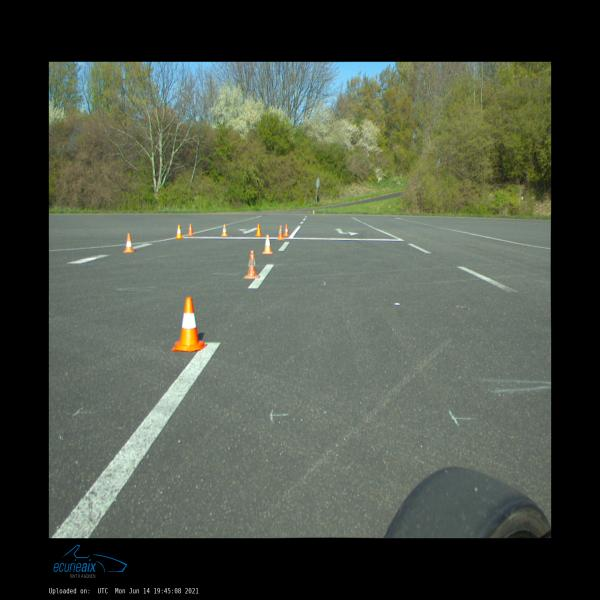orange_cone: (171, 297, 207, 352), (244, 251, 260, 278), (262, 234, 273, 254), (124, 234, 134, 253), (221, 224, 228, 236), (176, 226, 183, 238), (255, 224, 262, 236), (278, 226, 284, 240), (188, 224, 194, 236), (283, 224, 289, 236)
